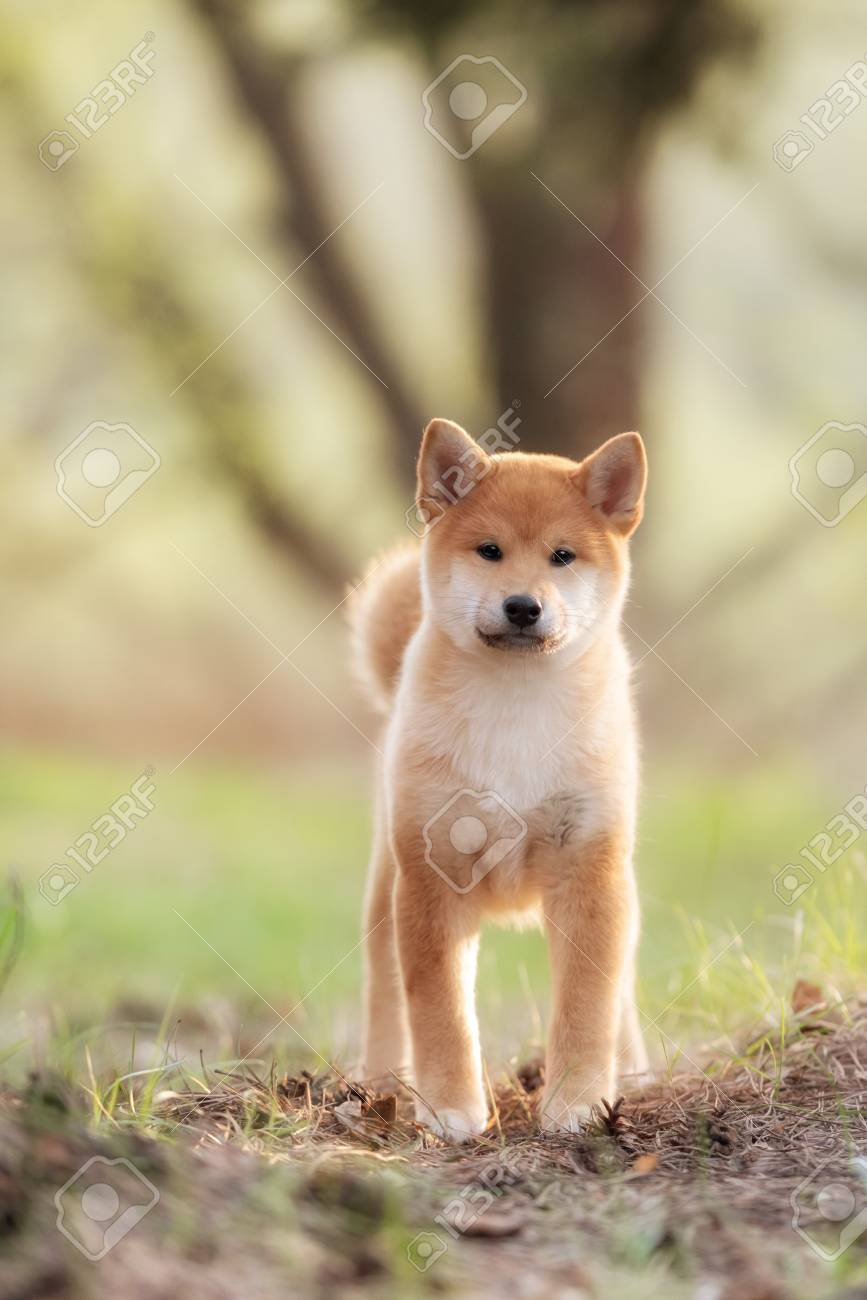dog: (311, 393, 694, 1155)
